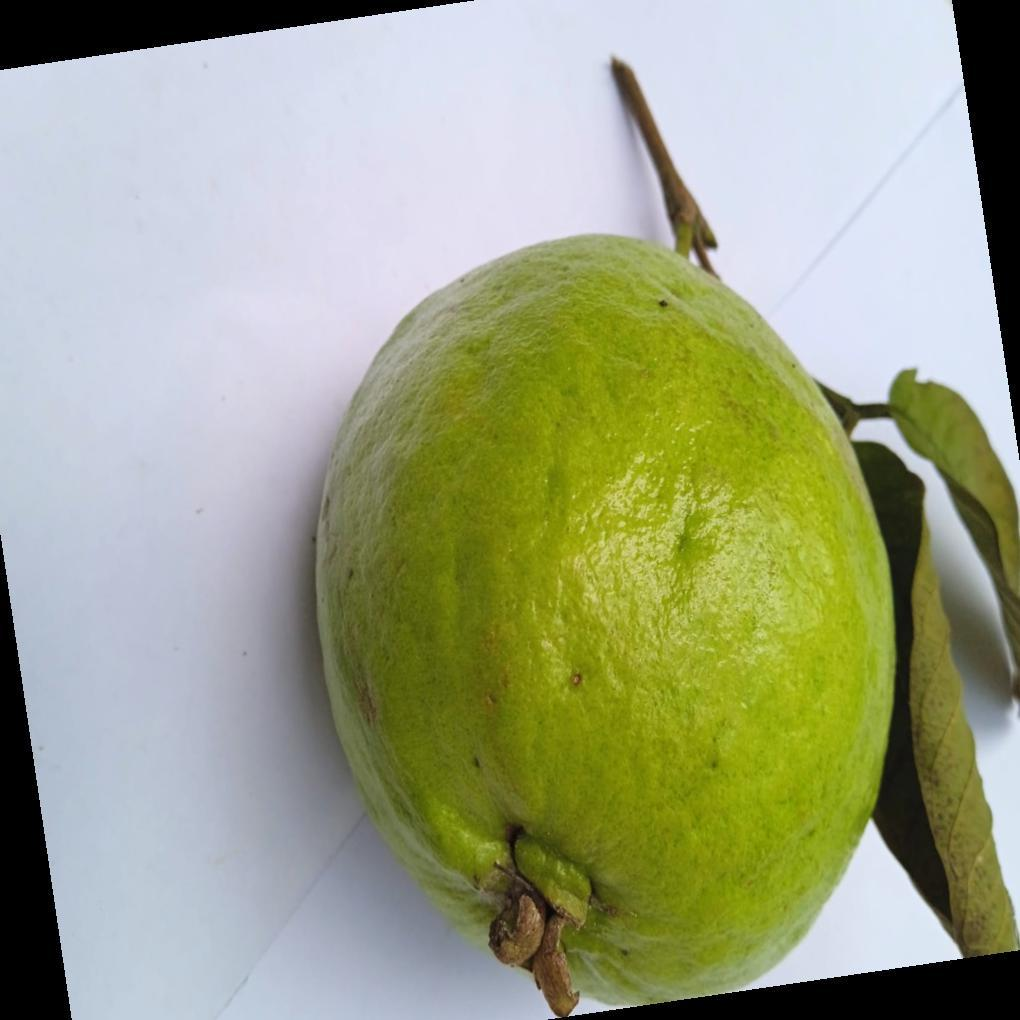FreshGuava: (310, 129, 905, 1020)
